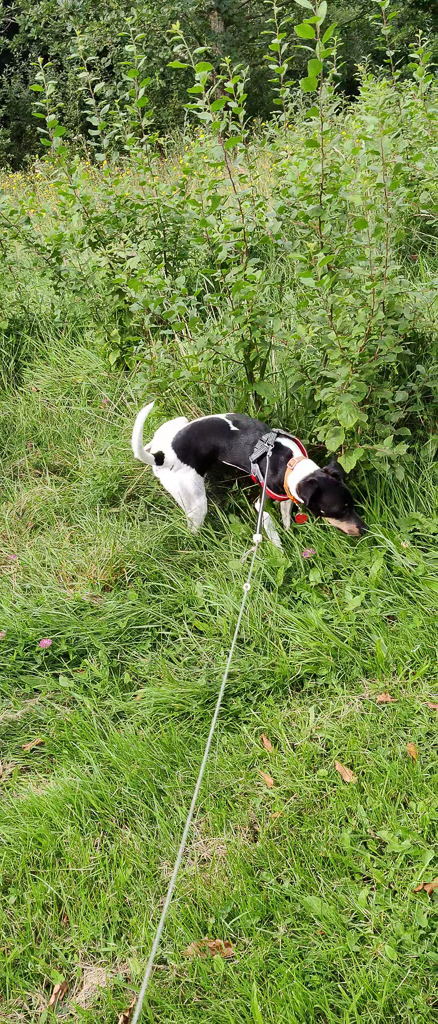Dog: (123, 392, 385, 557)
